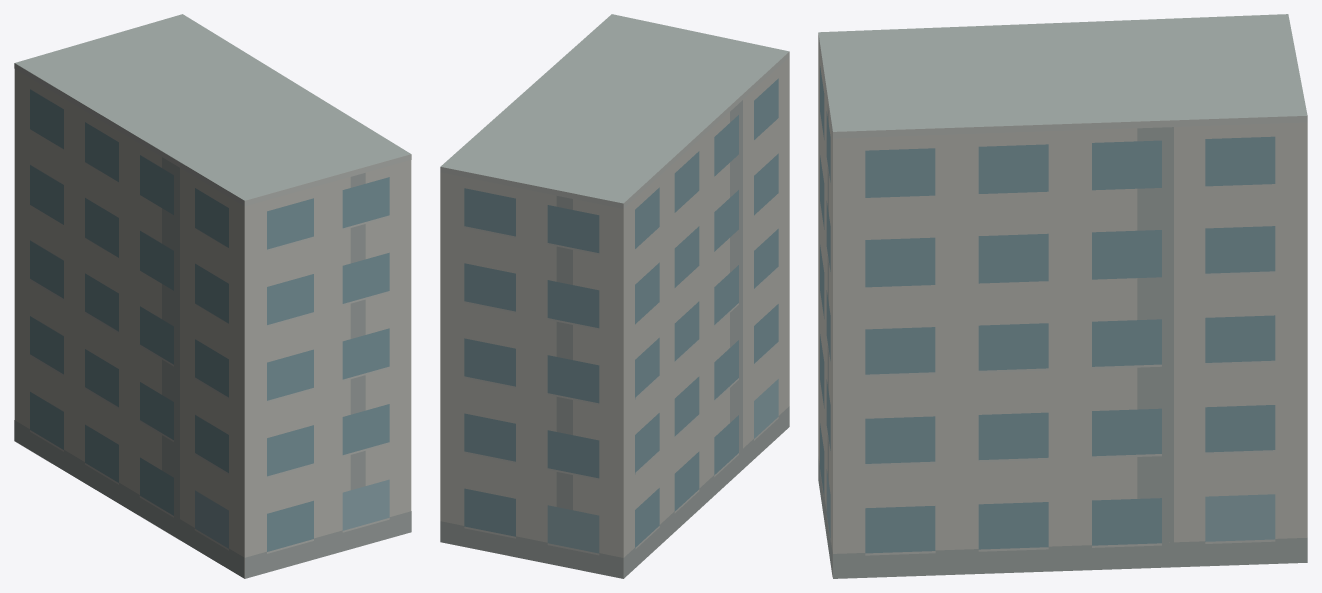
File: survey-upis-32942615.glb
3 renders of one model, left to right at view 1: azimuth 30°, elevation 25°; view 2: azimuth 150°, elevation 25°; view 3: azimuth 270°, elevation 25°, orthographic. The views are drawn at different scales.
Parts seen in each view (by area): view 1: survey-upis-32942615.tmp; view 2: survey-upis-32942615.tmp; view 3: survey-upis-32942615.tmp.
Boxes of the visible parts, x1=… form: survey-upis-32942615.tmp: x1=14, y1=14, x2=411, y2=578; survey-upis-32942615.tmp: x1=440, y1=14, x2=789, y2=578; survey-upis-32942615.tmp: x1=818, y1=14, x2=1307, y2=578.
Bounding box in the file's own units: 9.12 × 16.1 × 15.98.
